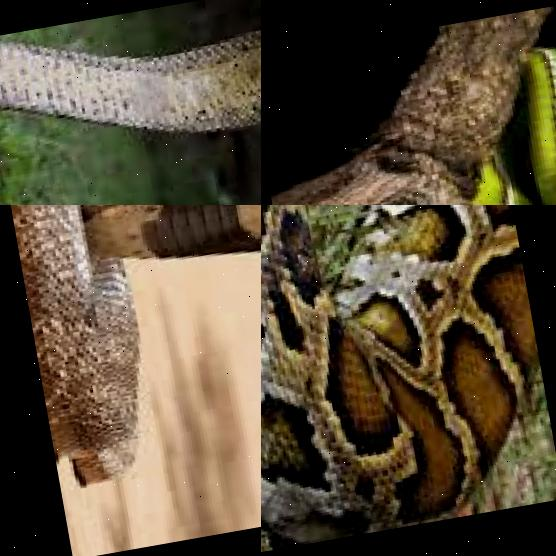1: (0, 0, 261, 205)
4: (261, 32, 556, 205)
5: (0, 205, 261, 492)
snake: (261, 205, 556, 556)
